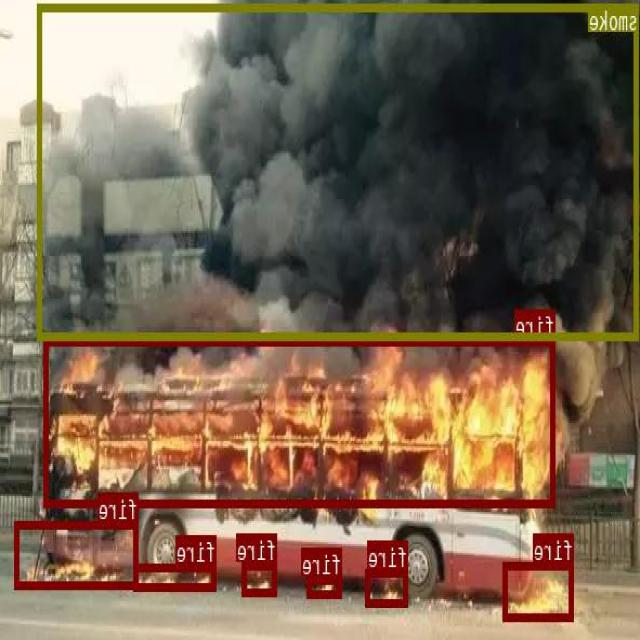fire: (44, 336, 556, 507), (16, 520, 139, 587), (504, 560, 575, 620), (135, 563, 217, 590), (367, 567, 409, 605), (243, 561, 277, 594), (308, 574, 343, 597)
smoke: (38, 3, 640, 339)
